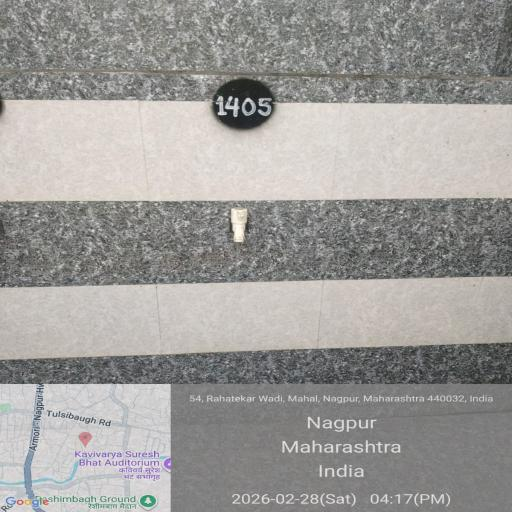clean_floor: (71, 72, 451, 468)
